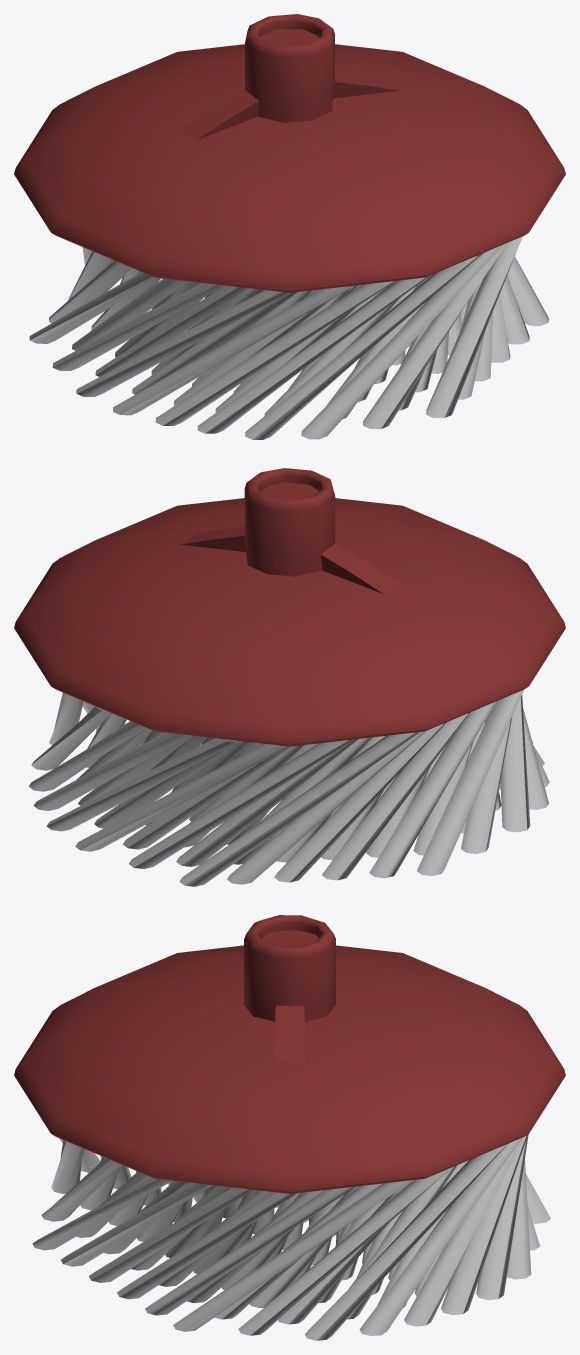
The model's file is Fregona.fbx.
3 renders of one model, top to bottom at view 1: azimuth 30°, elevation 25°; view 2: azimuth 150°, elevation 25°; view 3: azimuth 270°, elevation 25°, orthographic.
Parts seen in each view (by area): view 1: FREGONA; view 2: FREGONA; view 3: FREGONA.
Part boxes in pixels (left/top/right/bottom): FREGONA: left=14, top=14, right=565, bottom=439; FREGONA: left=14, top=468, right=565, bottom=886; FREGONA: left=14, top=915, right=565, bottom=1340.
Bounding box in the file's own units: 26.02 × 15.57 × 26.02.
